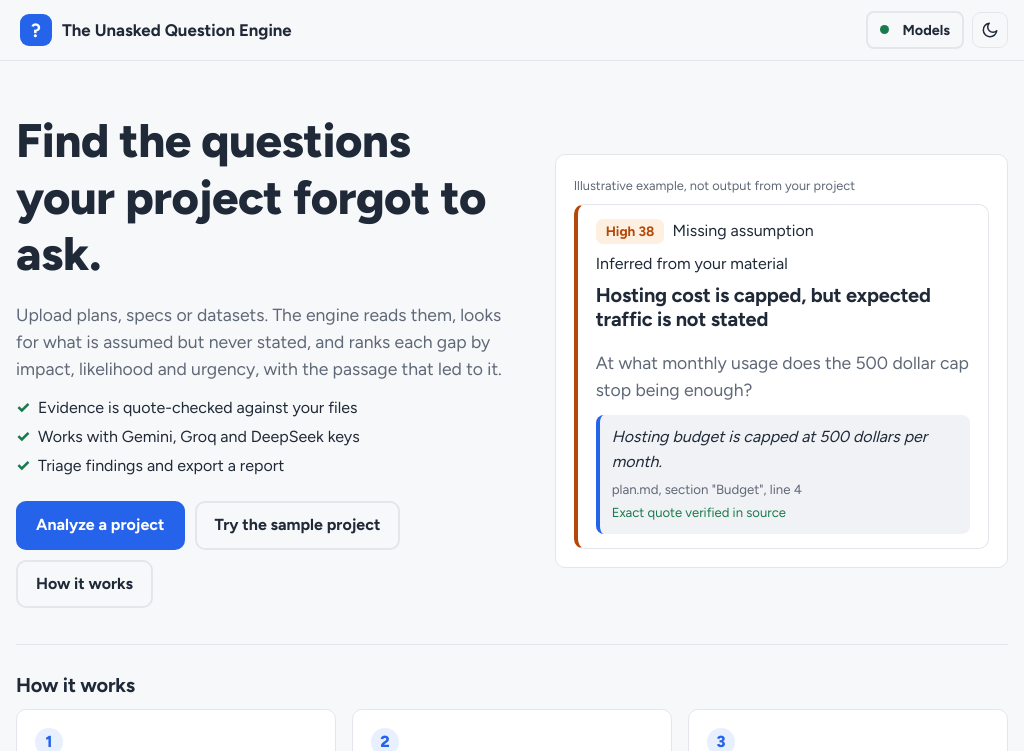
Test: App › shows the server's reason when the project cannot be created
The width and height of the screenshot is (1024, 751).
Click the button "Analyze a project" at (100, 525), box [16, 501, 184, 550]
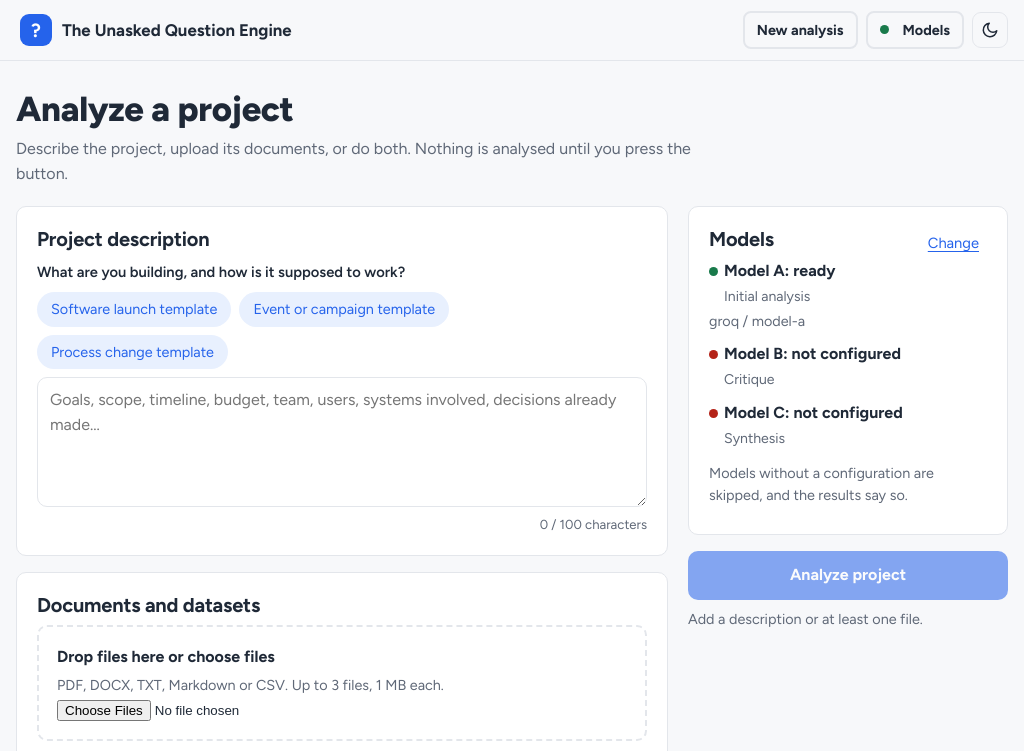
Type "A small tool" into the text box labelled "What are you building, and how is it supposed to work?" at (342, 442), box [37, 377, 647, 507]
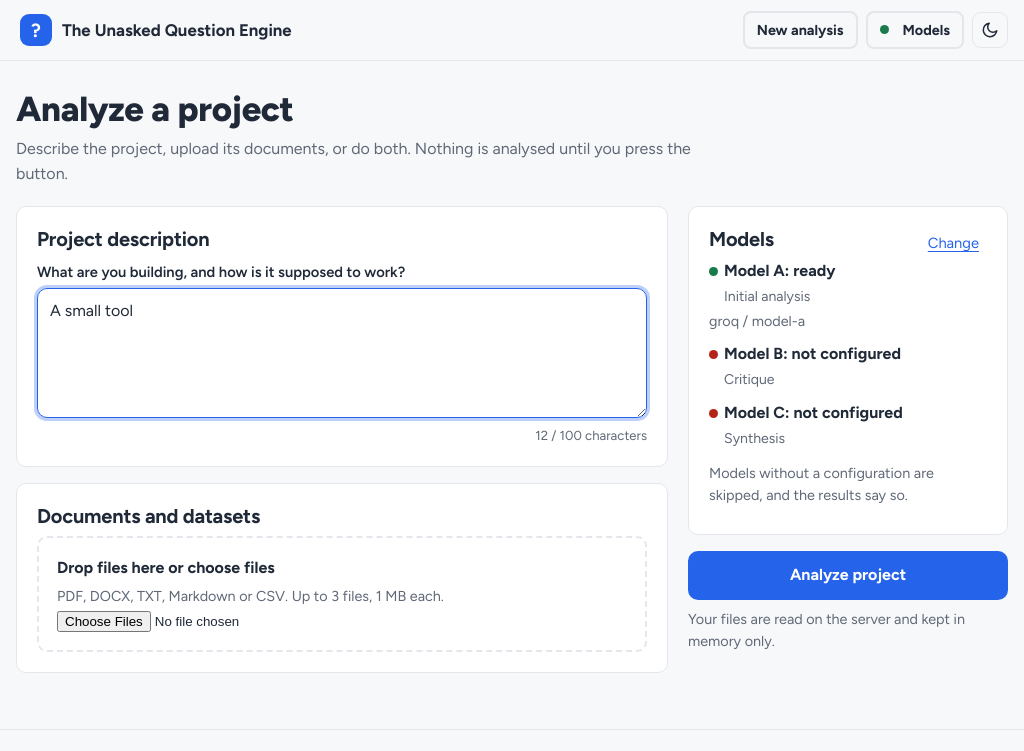
Result: the text "Model A: ready" is shown at [709, 261, 835, 280]
Click the button "Analyze project" at (848, 576), box [688, 551, 1008, 600]
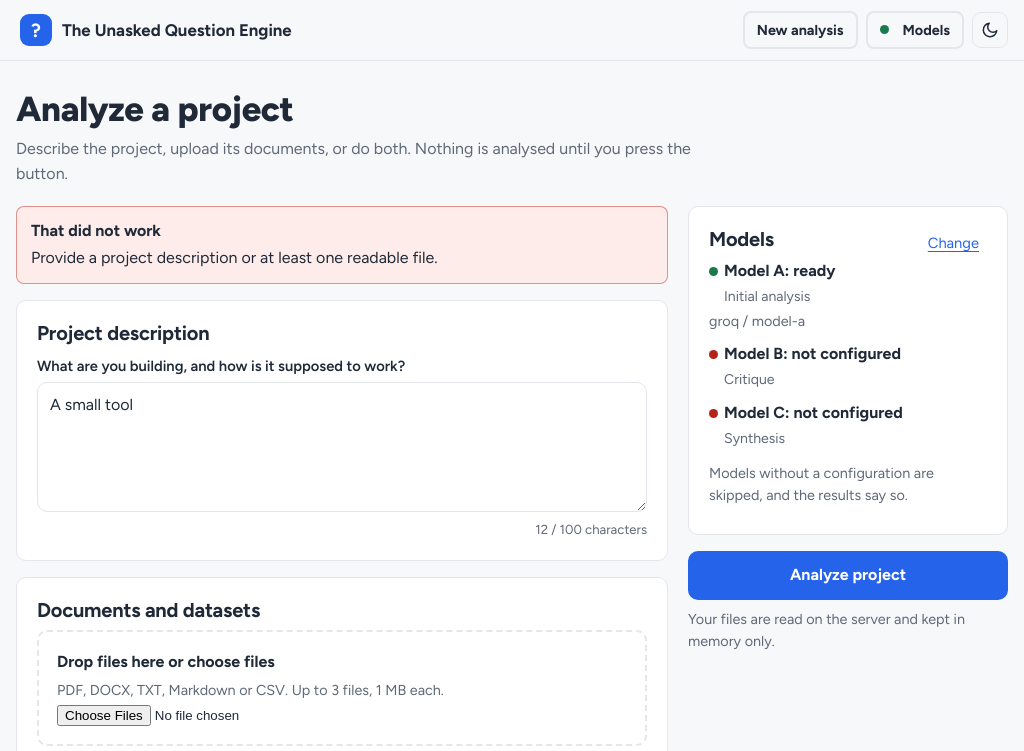
Expected: the heading "Analyze a project" is shown, [16, 88, 294, 130]
Result: the message shows "Provide a project description or at least one readable file." at [31, 248, 438, 267]
